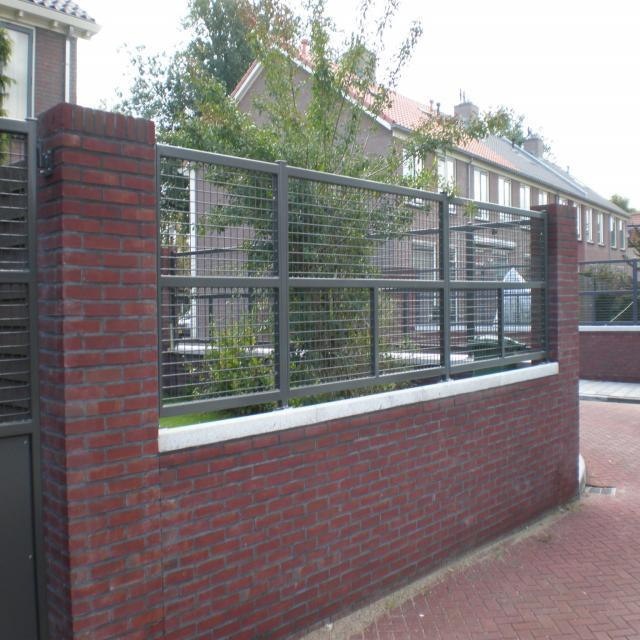fence line: (156, 141, 544, 382)
